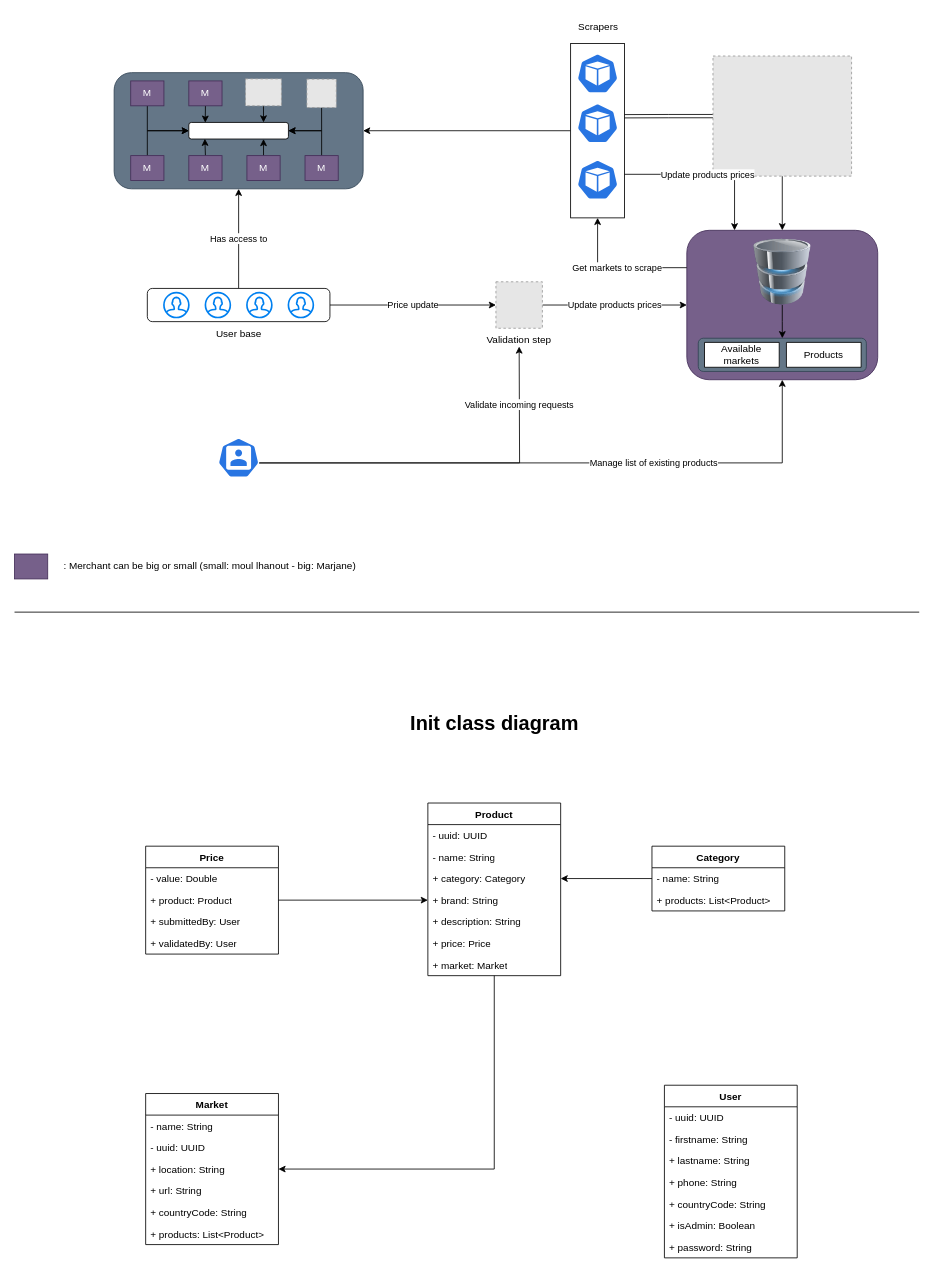
Image size: 935x1274. Some labels were removed from this diagram. Grey dashed boxes stand in for pictures. Each missing label, with the centre of its shape:
"Admin" belongs at point 238,457.
"Databse" belongs at point 782,271.
"Moroccan Market" belongs at point 238,130.
